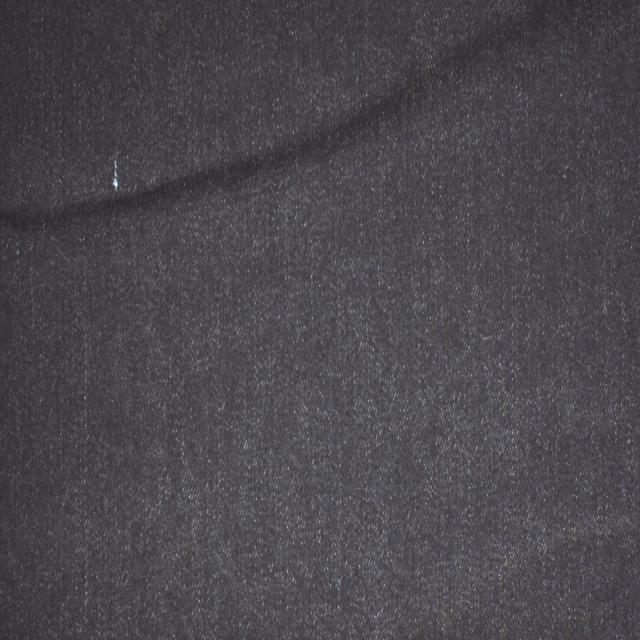Knot: (111, 158, 120, 191)
